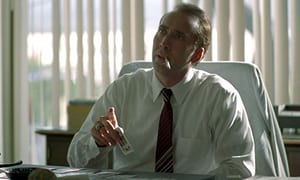cigarette: (161, 54, 173, 69)
